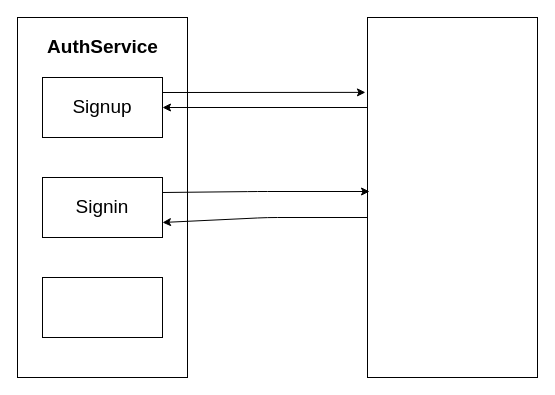
This 555x395 diagram has some shape labels left out. Each missing label, with the centre of its shape:
Email API Server: (x=452, y=197)
Signout: (x=102, y=307)
